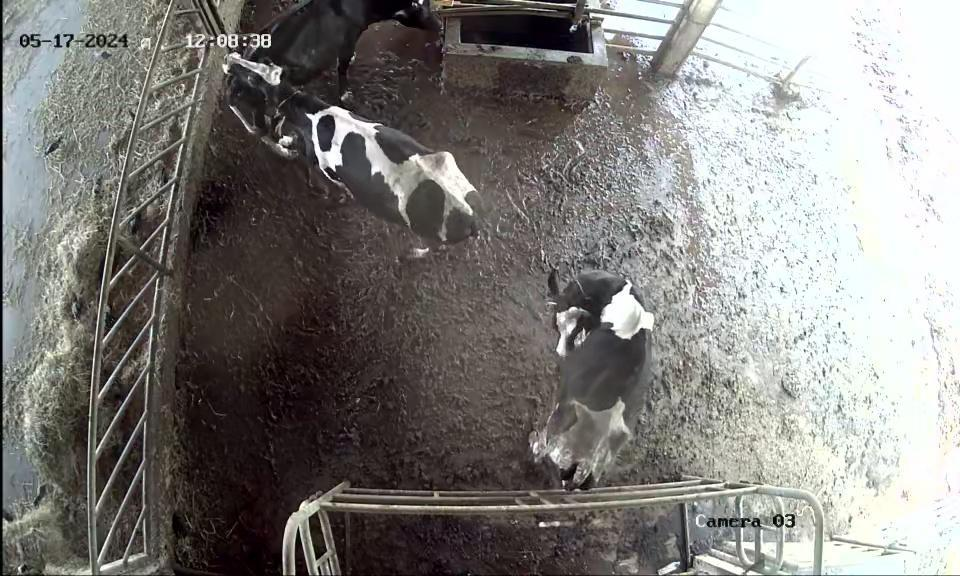propping: (216, 48, 328, 128)
stand: (524, 256, 669, 494), (231, 0, 449, 103)
